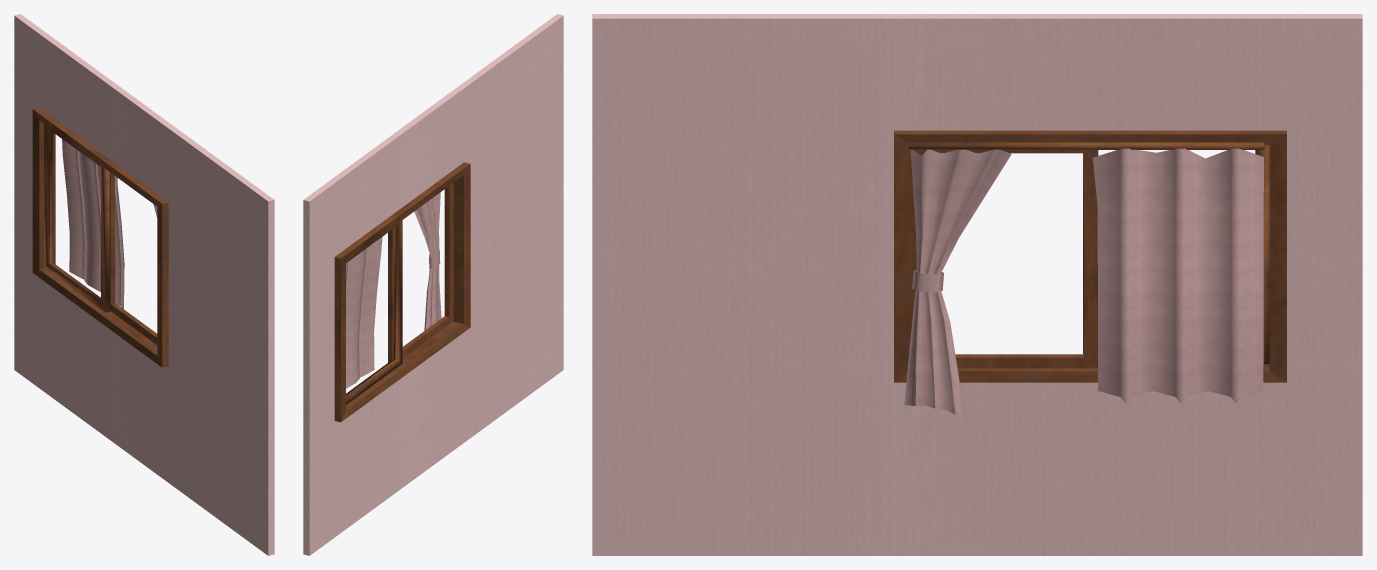
Rendered from window.fbx.
3 views of the same model, side by side, from view 1: azimuth 30°, elevation 25°; view 2: azimuth 150°, elevation 25°; view 3: azimuth 270°, elevation 25° (orthographic). The views are drawn at different scales.
Parts seen in each view (by area): view 1: Plane; view 2: Plane; view 3: Plane.
Part boxes in pixels (x1,y1,x2,y2): Plane: (14,14,274,555); Plane: (303,14,563,555); Plane: (592,14,1362,555).
Size of the model in its own units: 175 by 1539 by 2000.
Materials: 1 (1 with a texture image).
